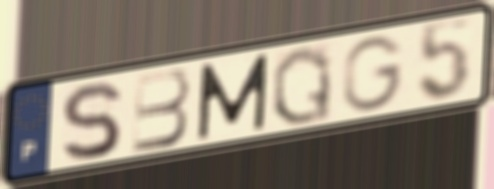5: (414, 14, 473, 104)
B: (130, 65, 193, 156)
G: (341, 33, 408, 115)
M: (195, 50, 272, 143)
Q: (270, 42, 335, 128)
S: (58, 79, 124, 165)
